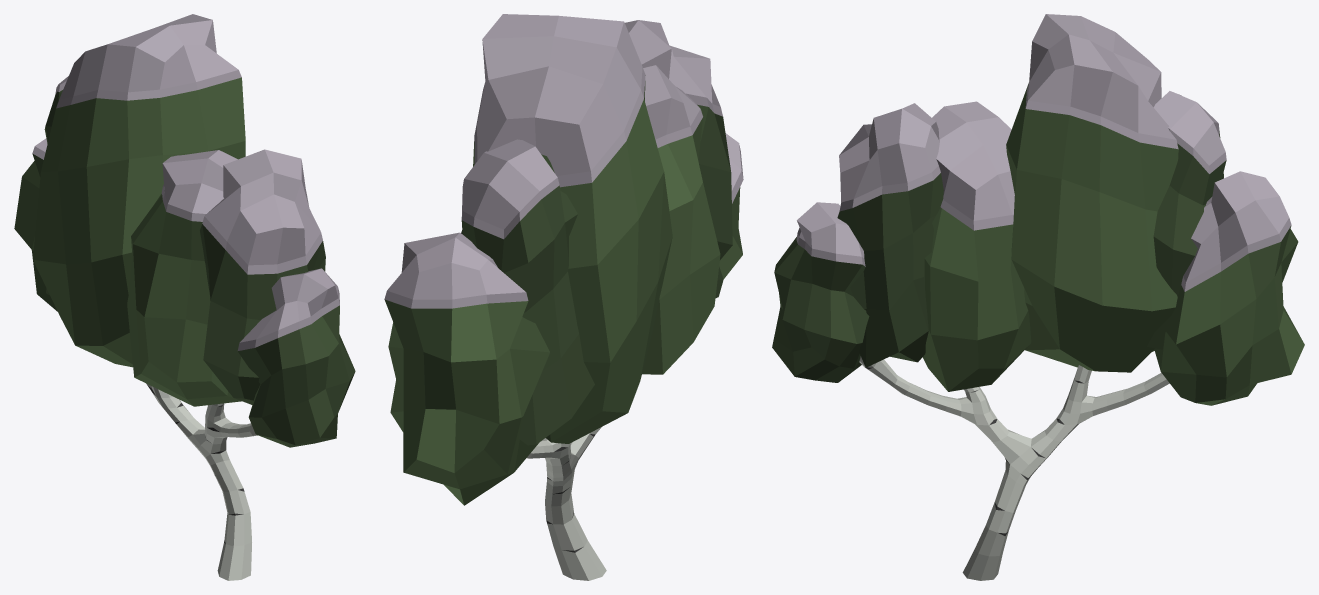
File: quaternius-nature-pack-birch-tree-snow-4.glb
3 views of the same model, side by side, from view 1: azimuth 30°, elevation 25°; view 2: azimuth 150°, elevation 25°; view 3: azimuth 270°, elevation 25° (orthographic). The views are drawn at different scales.
Visible parts, largest first — view 1: BirchTree_Snow_4; view 2: BirchTree_Snow_4; view 3: BirchTree_Snow_4.
Part boxes in pixels (box(x1,y1,x2,y2)): BirchTree_Snow_4: box(14, 14, 355, 580); BirchTree_Snow_4: box(384, 14, 743, 580); BirchTree_Snow_4: box(772, 14, 1304, 580).
Bounding box in the file's own units: 1.15 × 3.6 × 3.29.
